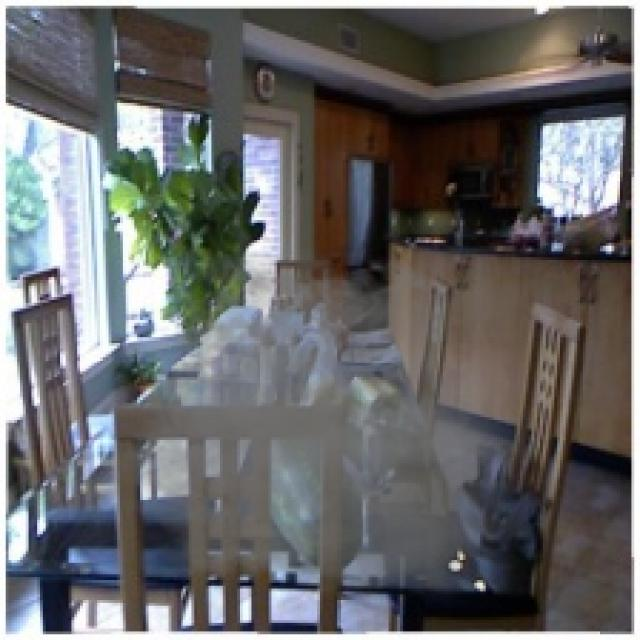smoke: (103, 249, 528, 597)
